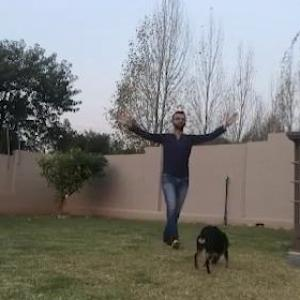takeoff: (120, 91, 250, 255)
